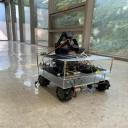cart: (36, 53, 115, 102)
